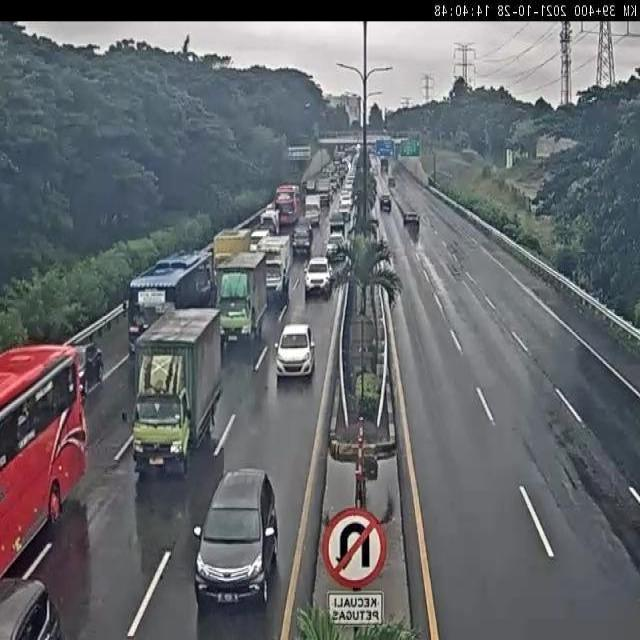Bus: (0, 339, 96, 587), (126, 245, 218, 358), (274, 183, 302, 224)
Car: (190, 470, 280, 617), (0, 576, 64, 638), (274, 323, 316, 384), (303, 253, 335, 296)
Truck: (122, 307, 223, 481), (218, 250, 269, 348), (258, 234, 292, 301), (210, 228, 253, 272)
